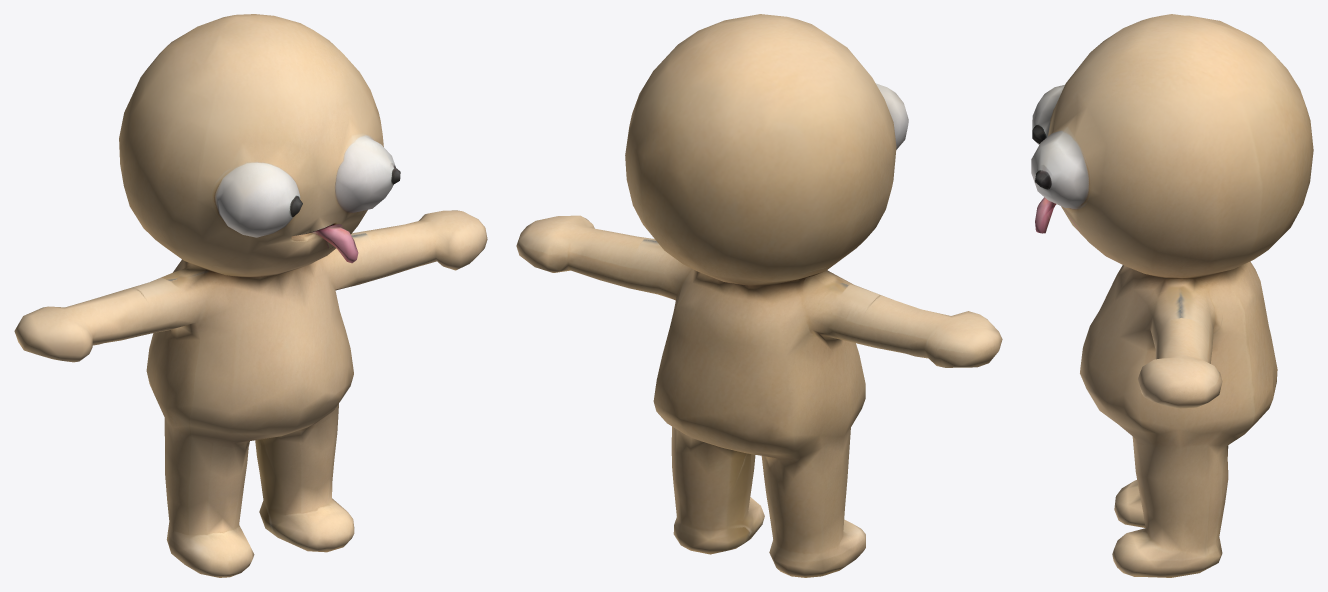
Rendered from Character_2k.fbx.
3 views of the same model, side by side, from view 1: azimuth 30°, elevation 25°; view 2: azimuth 150°, elevation 25°; view 3: azimuth 270°, elevation 25° (orthographic). The views are drawn at different scales.
Parts seen in each view (by area): view 1: texture_mapping; view 2: texture_mapping; view 3: texture_mapping.
Boxes of the visible parts, x1,y1,x2,y2 form: texture_mapping: (14, 14, 487, 577); texture_mapping: (516, 14, 1002, 577); texture_mapping: (1031, 14, 1313, 577).
Size of the model in its own units: 0.924 by 0.4899 by 0.9994.
1 material, 1 textured.
